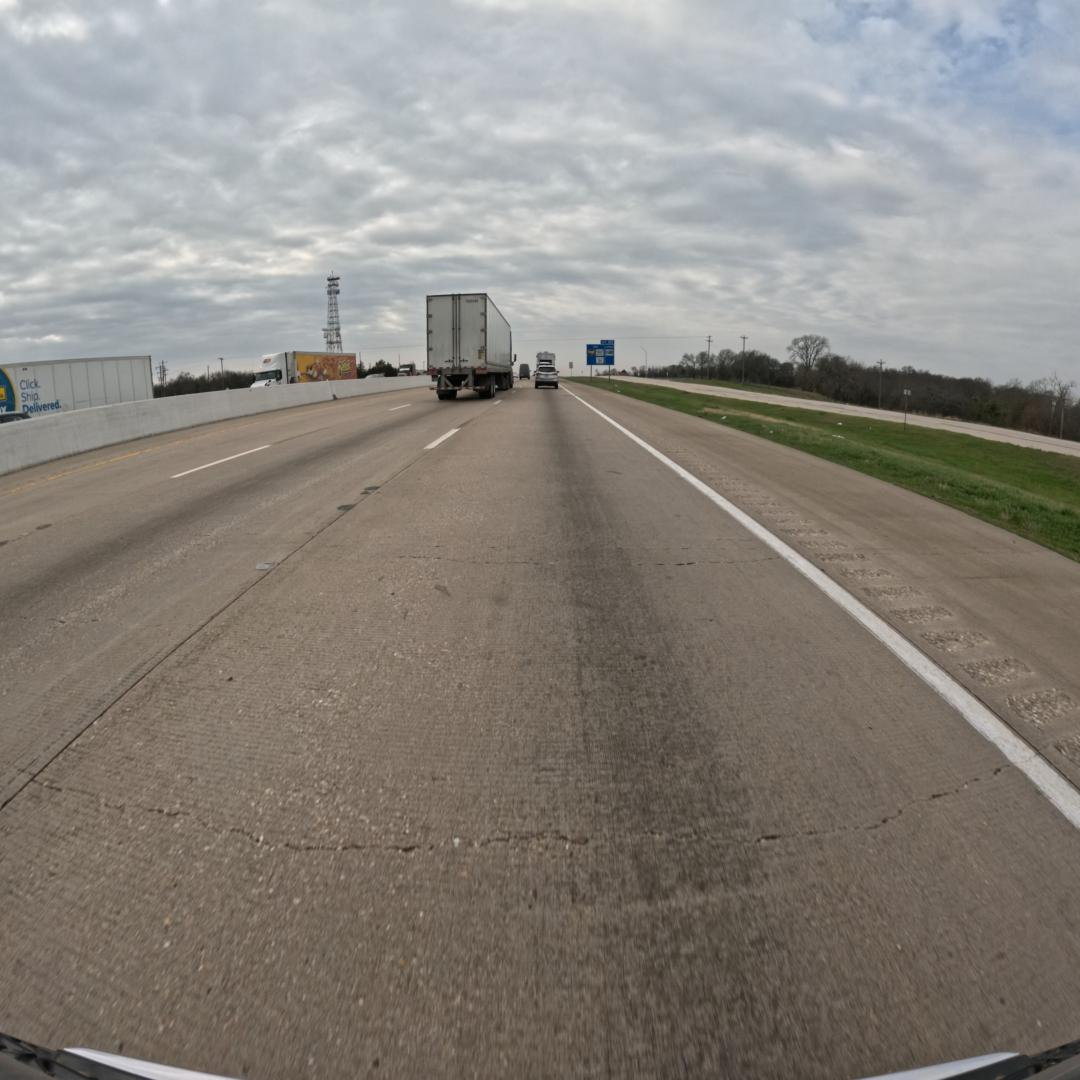lane0: (0, 389, 1080, 1077)
lane1: (0, 399, 494, 809)
